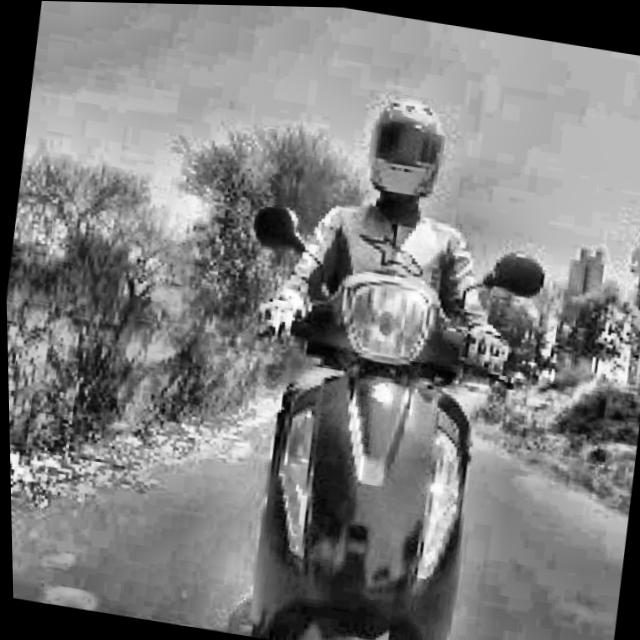motorcycle: (189, 172, 562, 640)
